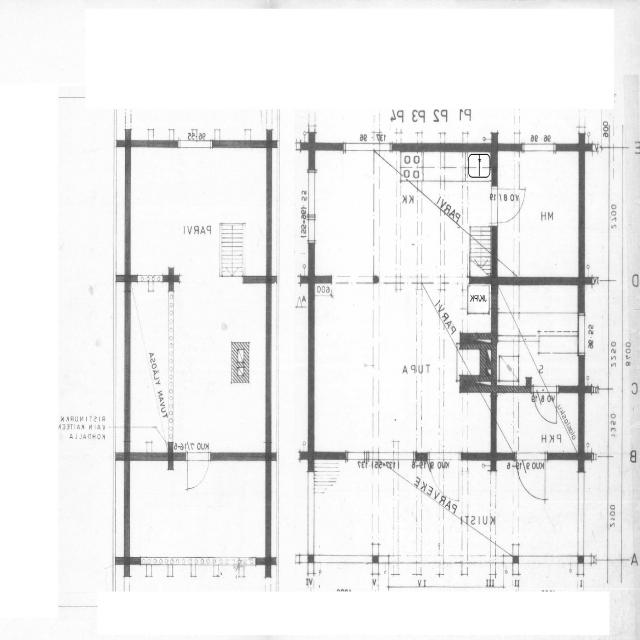door: (430, 452, 460, 501), (517, 452, 545, 498), (492, 188, 523, 222), (534, 385, 557, 424), (188, 453, 209, 490)
